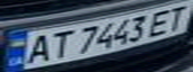3: (127, 12, 154, 43)
4: (112, 16, 136, 46), (97, 20, 118, 51)
7: (75, 22, 100, 54)
A: (18, 33, 57, 65)
E: (145, 7, 178, 37)
T: (42, 28, 75, 61), (160, 2, 193, 32)
